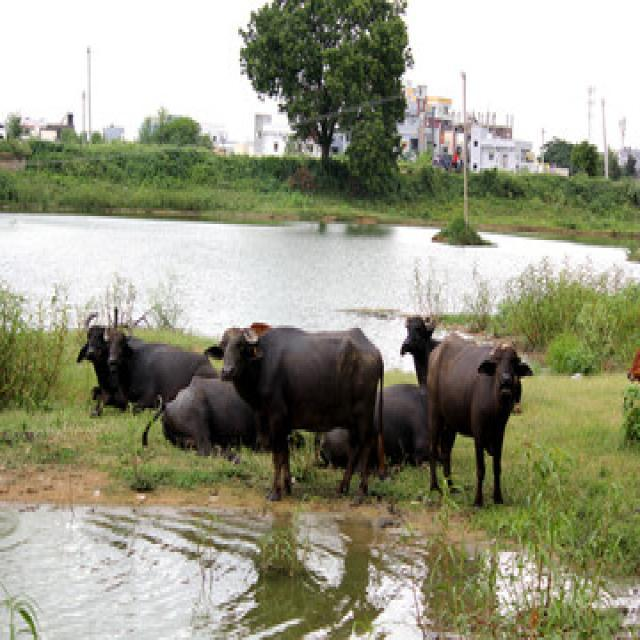Buffalo: (206, 318, 391, 503)
